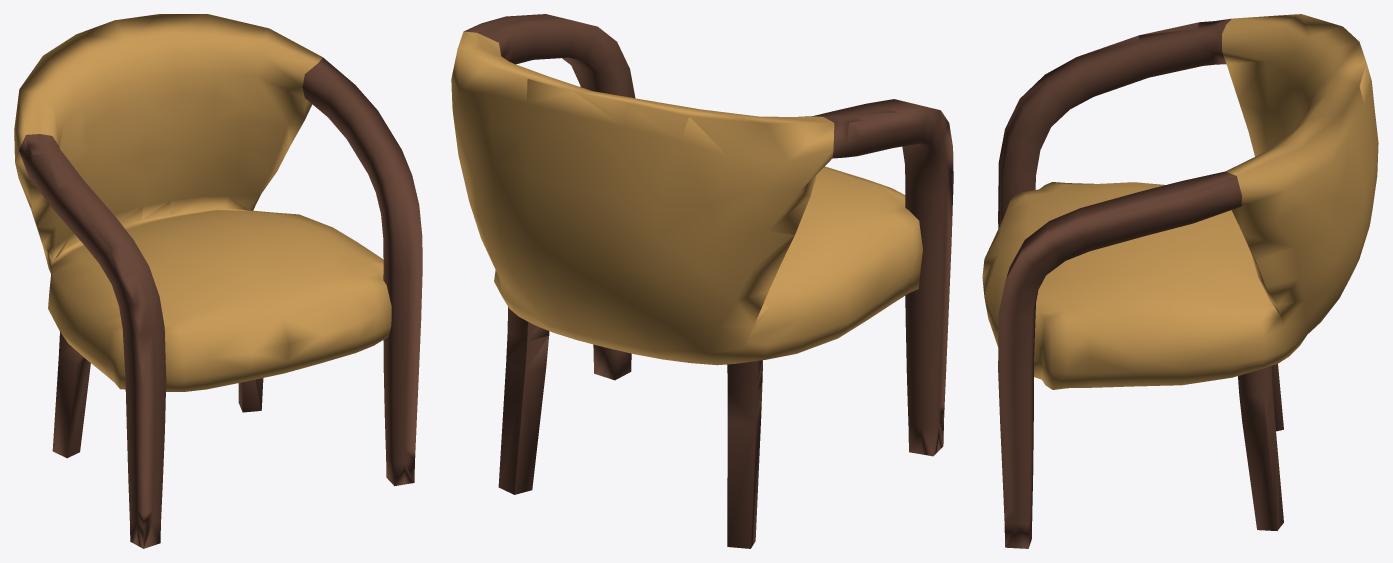
File: club-chair.glb
3 renders of one model, left to right at view 1: azimuth 30°, elevation 25°; view 2: azimuth 150°, elevation 25°; view 3: azimuth 270°, elevation 25°, orthographic. The views are drawn at different scales.
Parts seen in each view (by area): view 1: club_chair; view 2: club_chair; view 3: club_chair.
Part boxes in pixels (x1,y1,x2,y2): club_chair: (14,14,422,548); club_chair: (451,14,953,548); club_chair: (982,14,1378,548).
Bounding box in the file's own units: 0.7076 × 0.8 × 0.6914.
